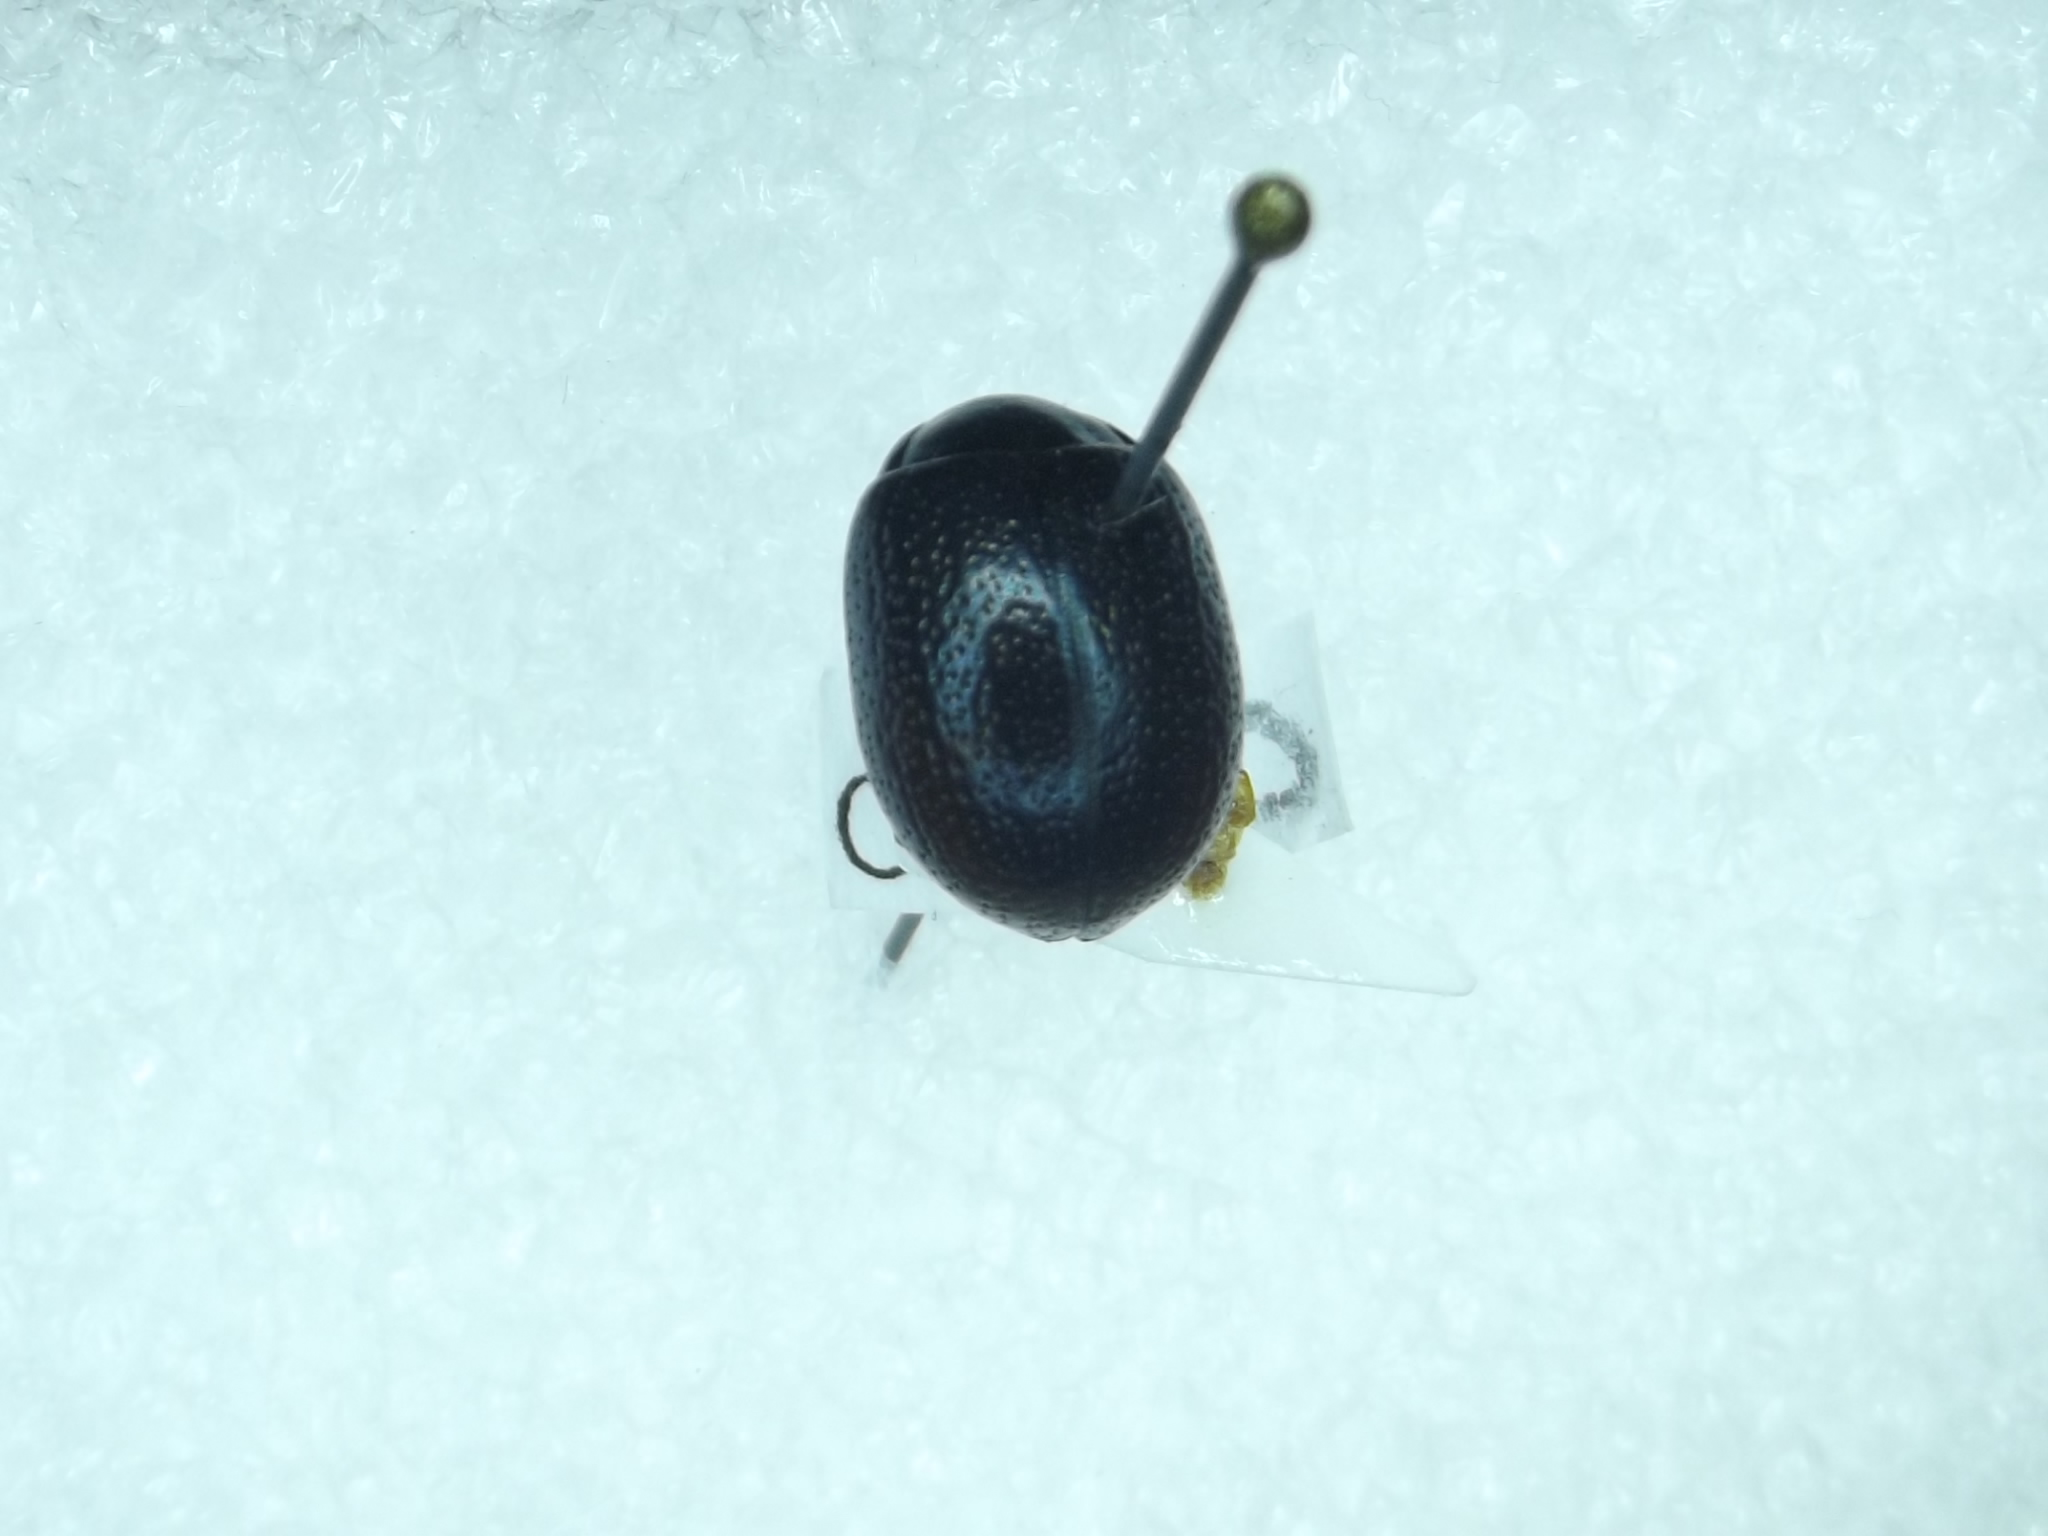Chrysolina_oricalcia: (829, 382, 1247, 950)
